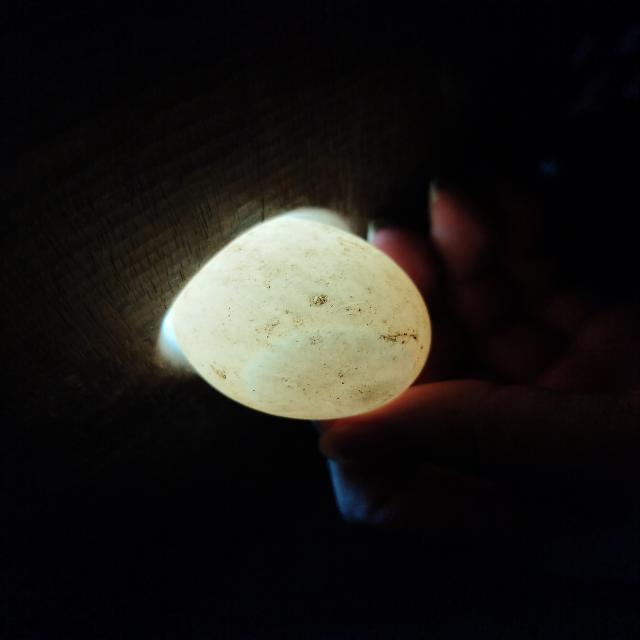Camara de Ar: (246, 328, 410, 420)
